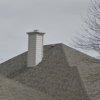Chimney: (20, 24, 48, 63)
